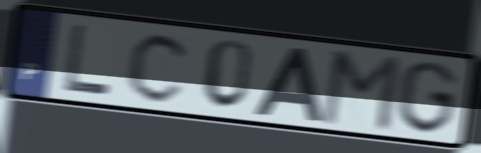0: (198, 38, 254, 113)
A: (251, 45, 325, 123)
C: (124, 30, 194, 105)
G: (395, 59, 460, 137)
L: (61, 21, 114, 98)
M: (317, 48, 404, 134)
